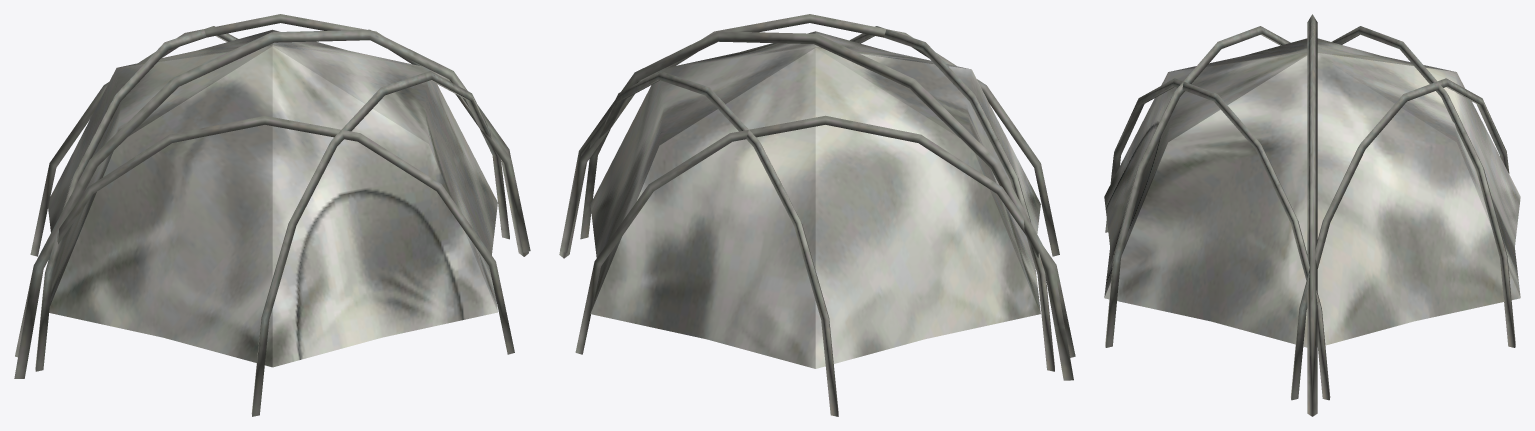
Rendered from eqp_camping_tent_s1_l1.fbx.
3 views of the same model, side by side, from view 1: azimuth 30°, elevation 25°; view 2: azimuth 150°, elevation 25°; view 3: azimuth 270°, elevation 25° (orthographic). The views are drawn at different scales.
Parts seen in each view (by area): view 1: mesh_node; view 2: mesh_node; view 3: mesh_node.
Part boxes in pixels (x1,y1,x2,y2): mesh_node: [14, 14, 530, 416]; mesh_node: [559, 14, 1075, 416]; mesh_node: [1104, 14, 1520, 416].
Bounding box in the file's own units: 4.39 × 2.32 × 3.33.
